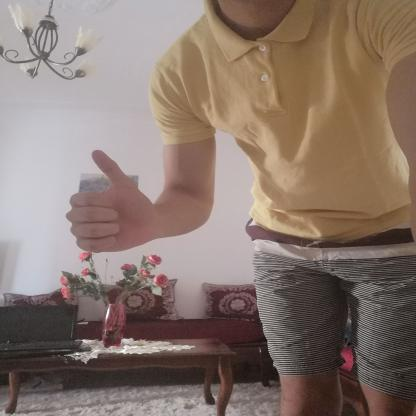ALIF: (54, 133, 172, 267)
